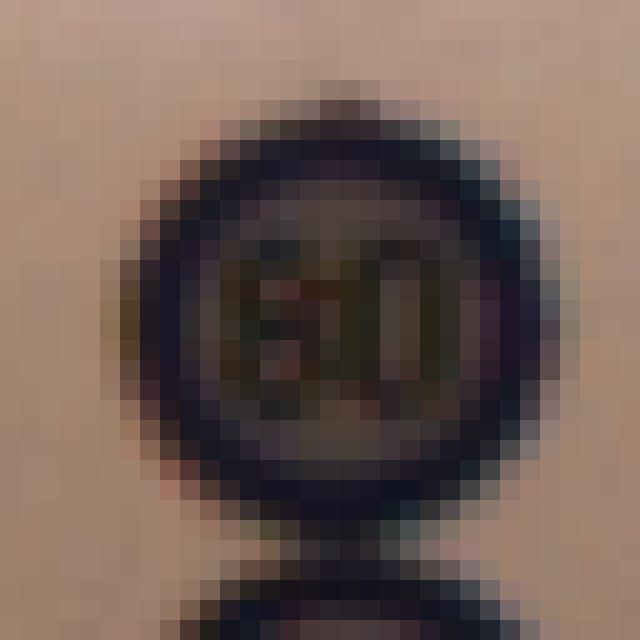SPEED-LIMIT-80: (110, 110, 542, 530)
